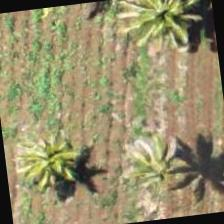Kelapa_Sawit: (112, 120, 212, 220), (2, 125, 99, 223), (110, 0, 208, 65)
